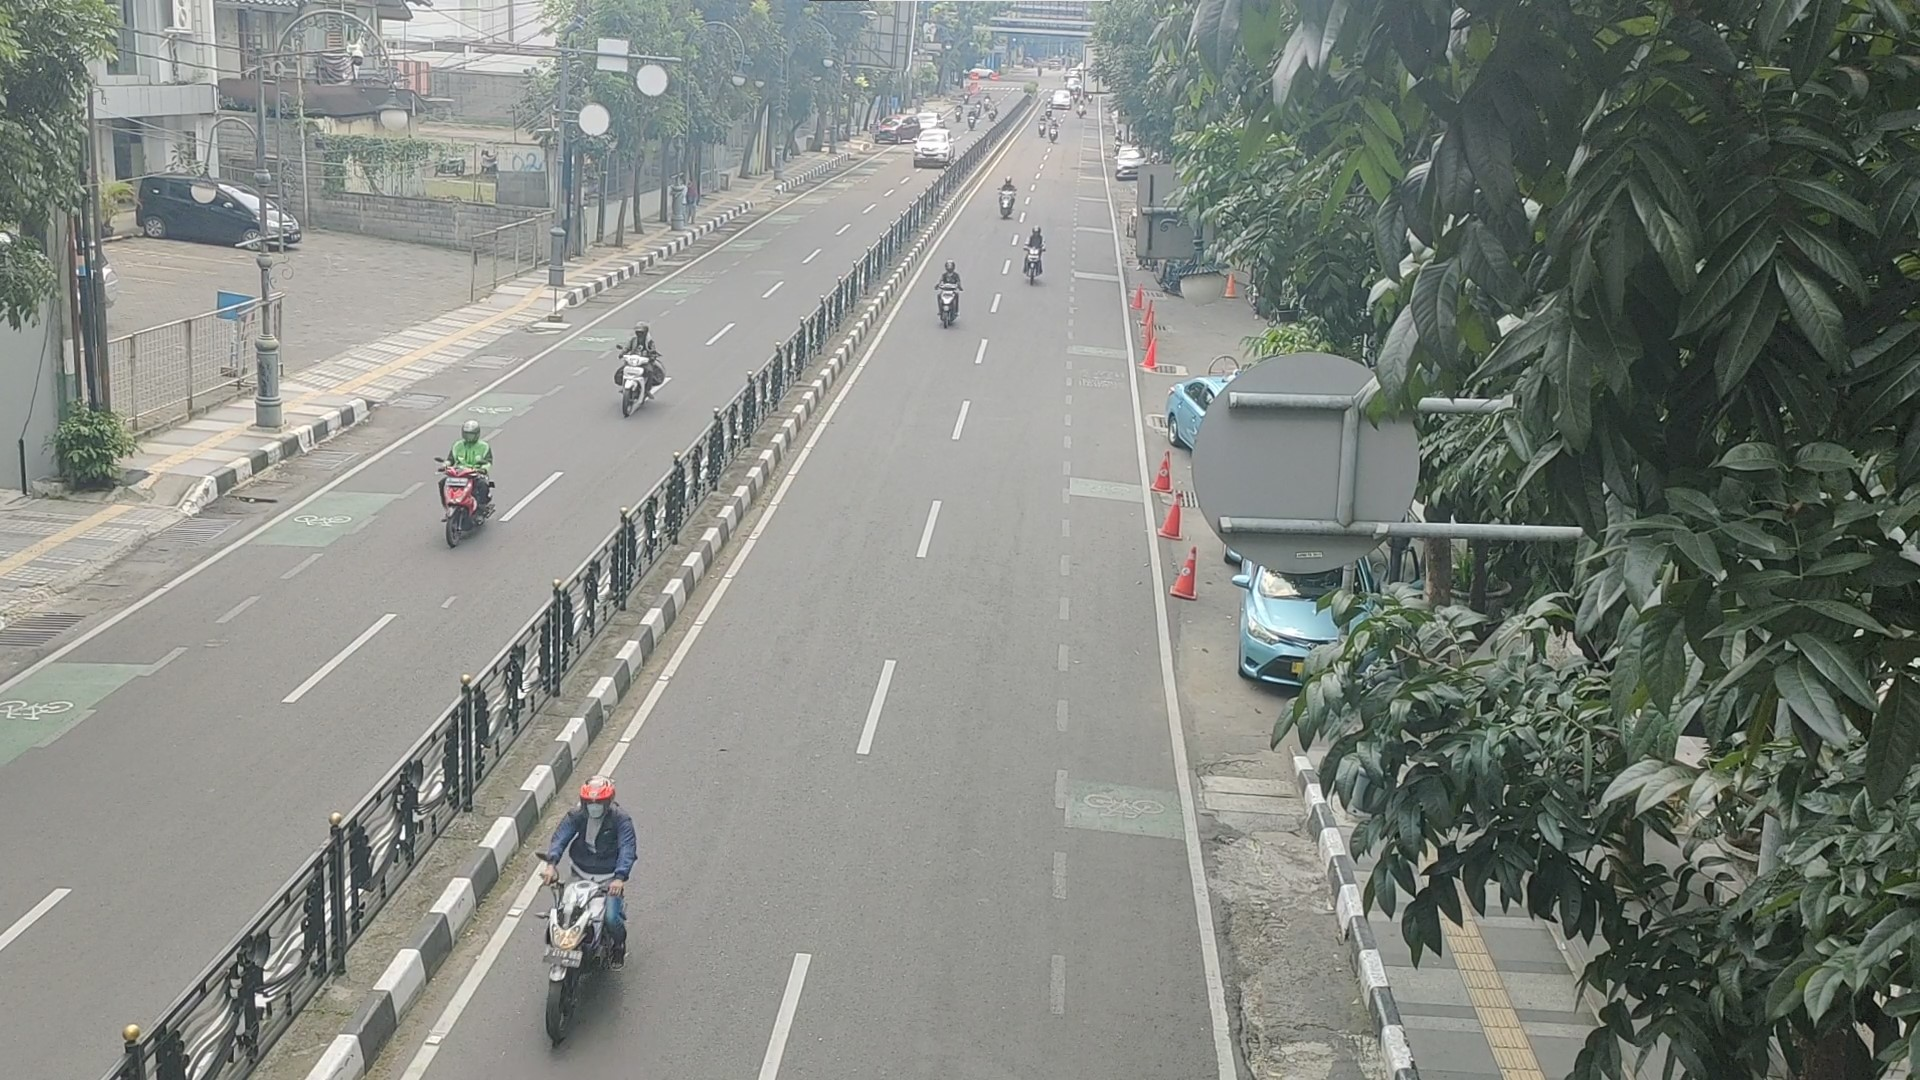mobil: (861, 7, 1000, 289)
motor: (516, 773, 654, 1056), (386, 342, 525, 625), (967, 127, 1105, 410), (935, 49, 1073, 332), (563, 233, 702, 516), (876, 162, 1013, 444)
